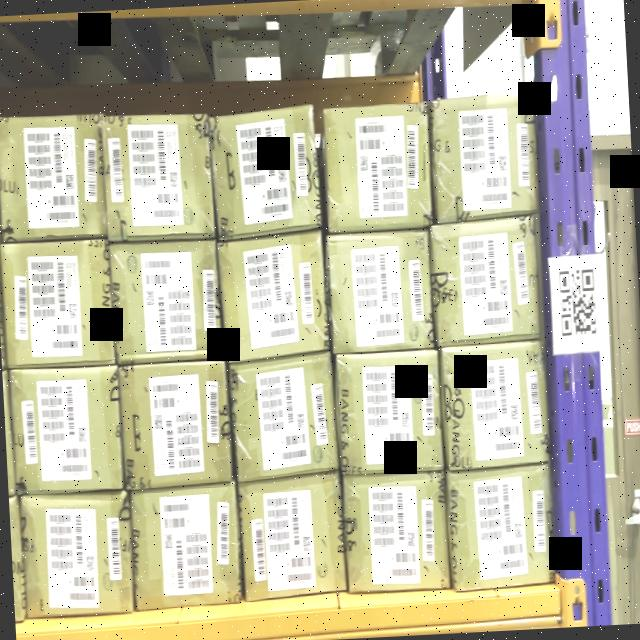box: (11, 364, 123, 490), (121, 362, 232, 488), (323, 104, 432, 232), (2, 240, 112, 366), (104, 115, 213, 238), (432, 94, 538, 220), (112, 241, 222, 362), (23, 494, 133, 615), (0, 114, 106, 239), (444, 342, 548, 466), (432, 220, 539, 340), (220, 236, 328, 354), (132, 488, 240, 606), (344, 472, 450, 592), (338, 352, 444, 472), (213, 112, 318, 232), (329, 233, 433, 354), (449, 468, 554, 586), (233, 360, 336, 477), (240, 478, 345, 592)
